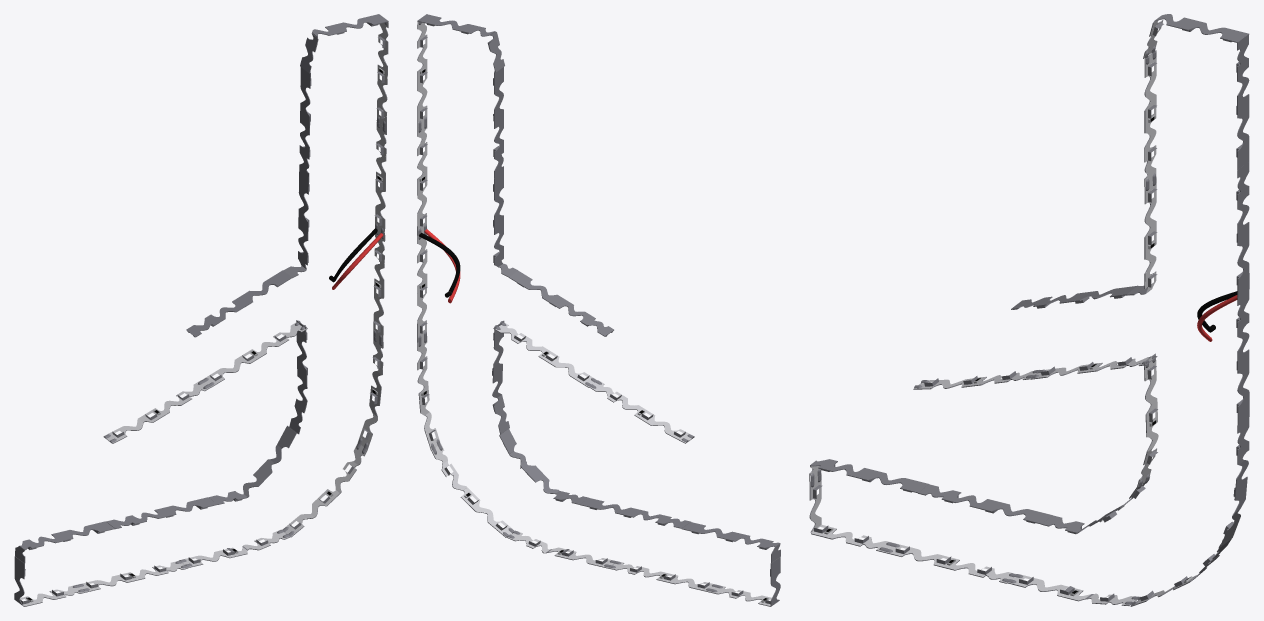
Rendered from fixedled-v9.glb.
3 renders of one model, left to right at view 1: azimuth 30°, elevation 25°; view 2: azimuth 150°, elevation 25°; view 3: azimuth 330°, elevation 25°, orthographic. The views are drawn at different scales.
Parts seen in each view (by area): view 1: FIXED-LED; view 2: FIXED-LED; view 3: FIXED-LED.
Boxes of the visible parts, left/top/right/bottom form: FIXED-LED: left=14, top=14, right=388, bottom=606; FIXED-LED: left=417, top=14, right=780, bottom=606; FIXED-LED: left=809, top=14, right=1249, bottom=606.
Size of the model in its own units: 36.47 by 48.55 by 3.31.
